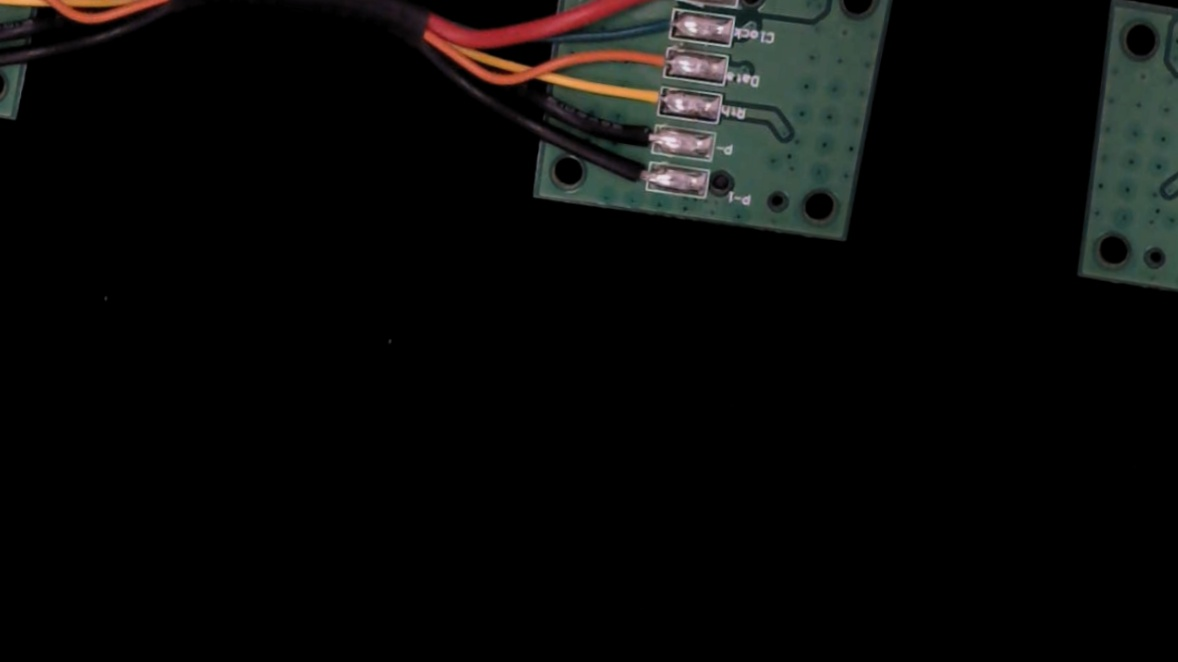Black: (600, 113, 675, 156)
Black1: (597, 154, 667, 196)
Green: (622, 0, 694, 41)
Orange: (614, 41, 688, 82)
Red: (630, 0, 702, 4)
Yellow: (606, 75, 682, 119)
